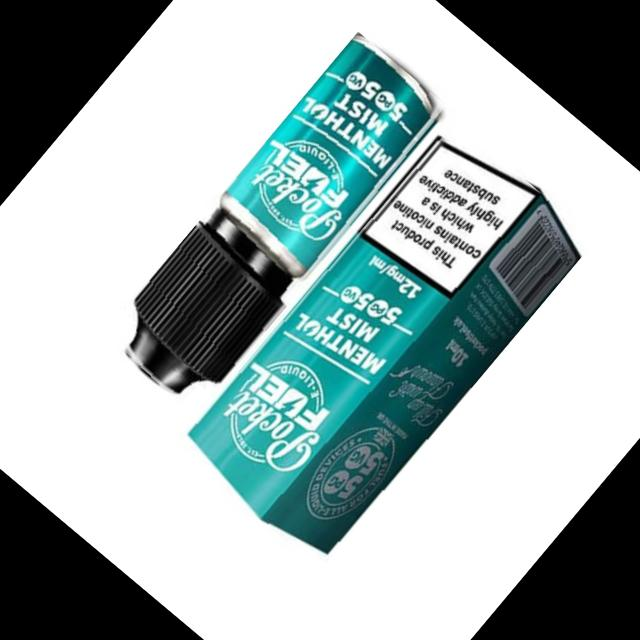Hazard: (173, 115, 596, 568), (99, 30, 452, 418)
